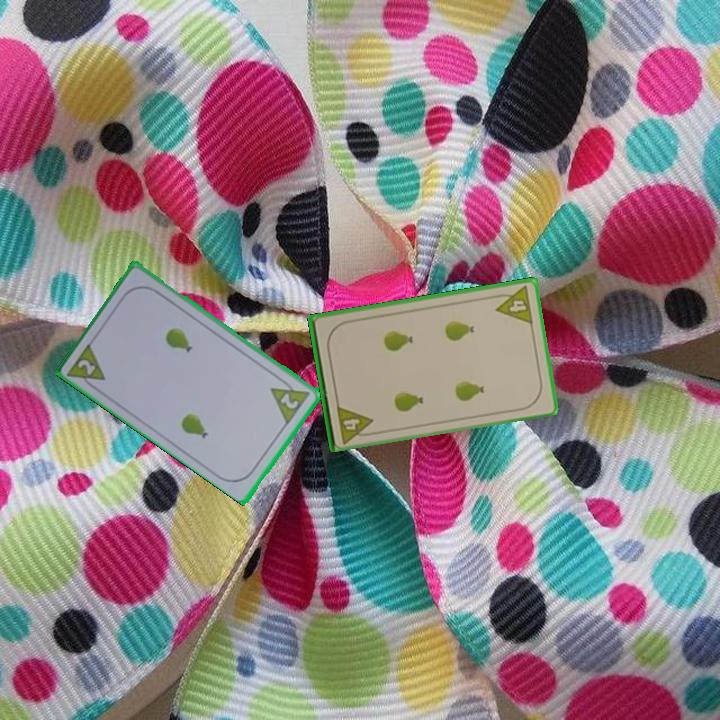2p: (64, 338, 109, 394), (277, 389, 302, 412)
4p: (491, 283, 536, 327), (333, 401, 377, 445)
